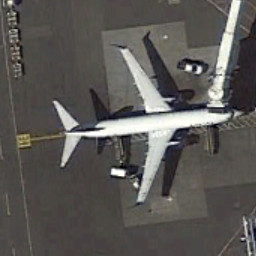Airplane: (46, 36, 247, 216)
